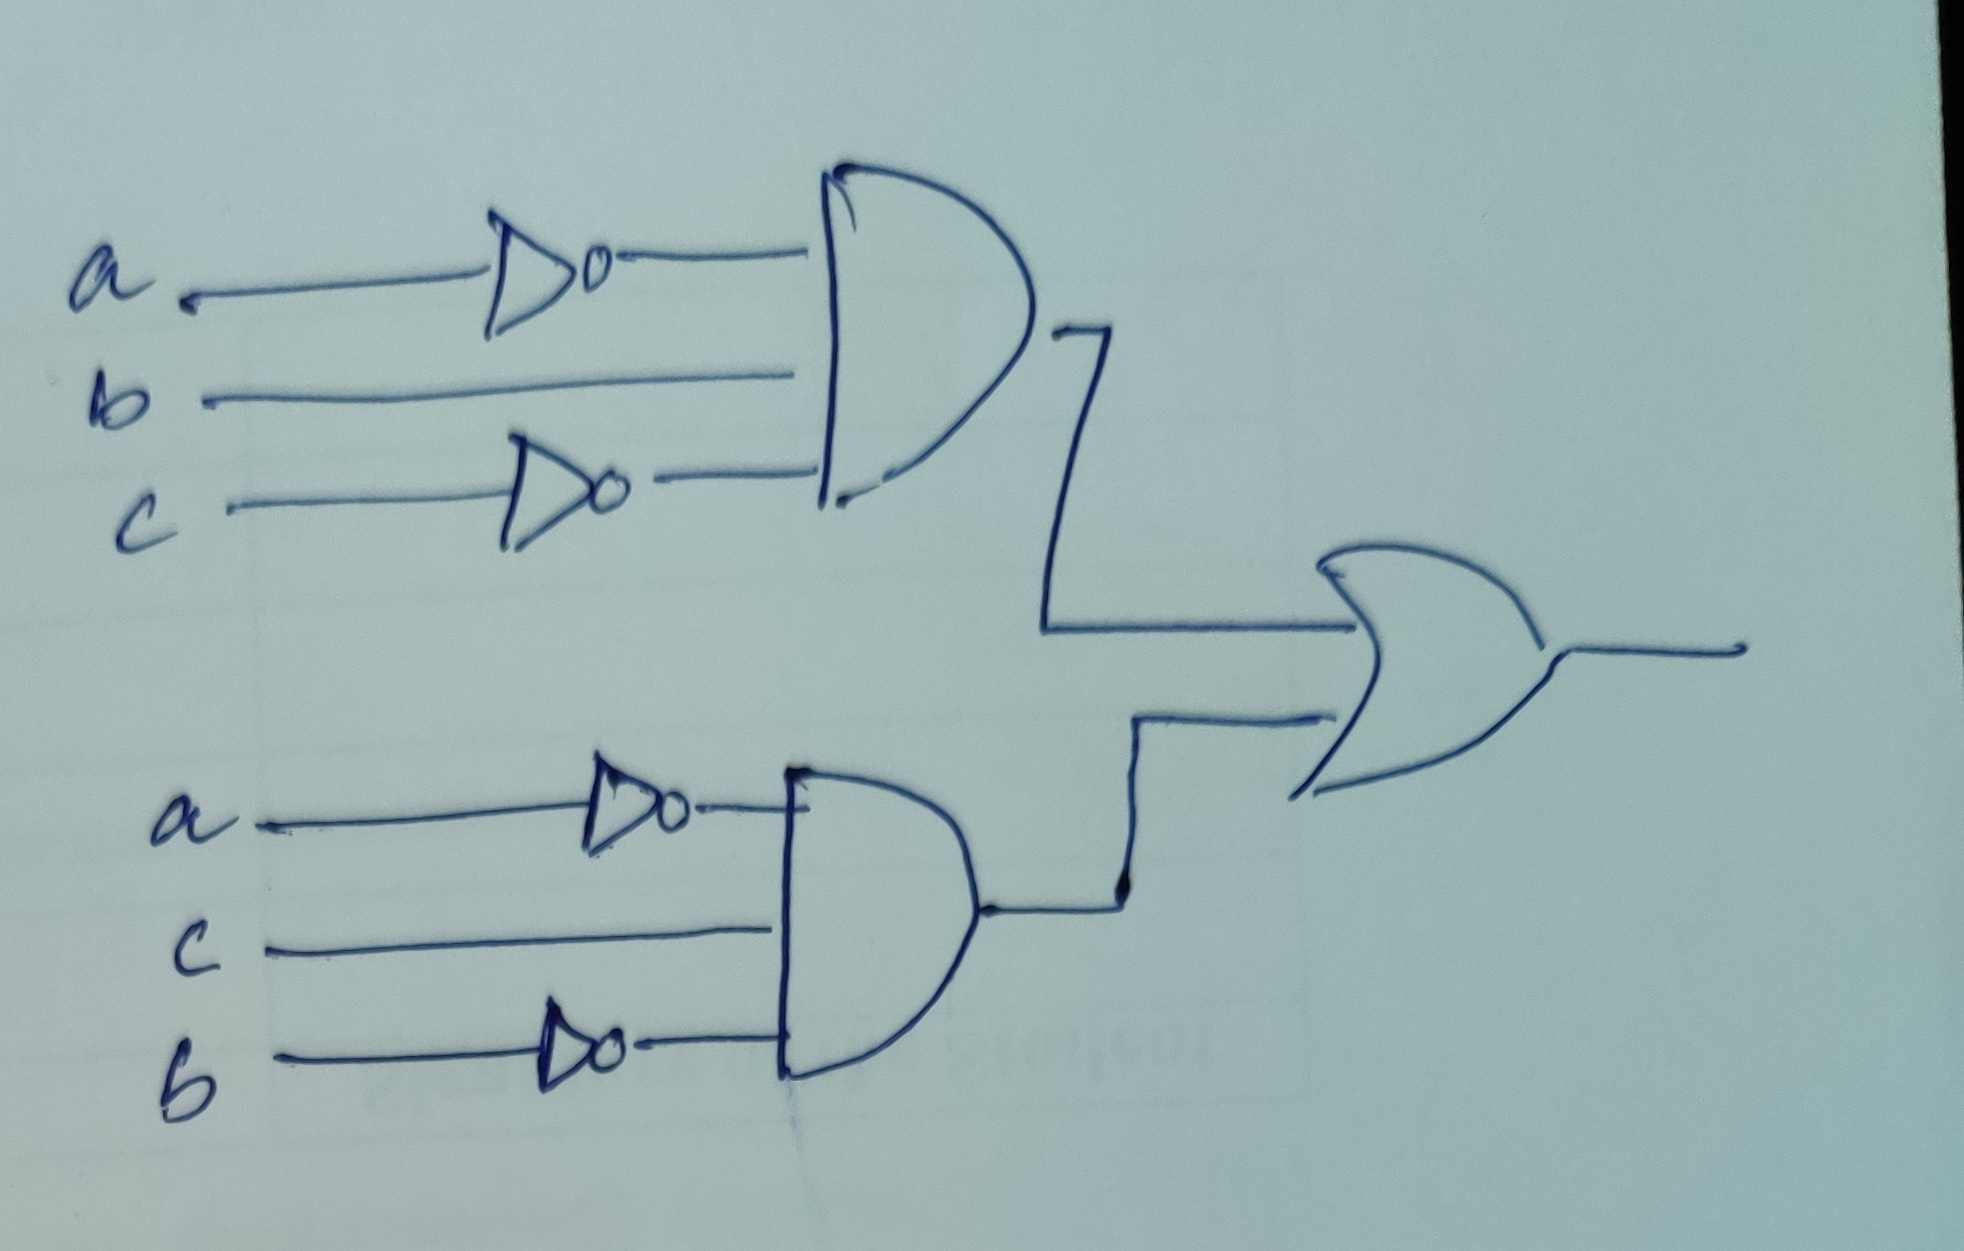and: (760, 142, 1054, 530), (759, 719, 1024, 1124)
not: (429, 180, 636, 346), (458, 417, 677, 570), (541, 711, 719, 880), (510, 963, 667, 1118)
or: (1210, 478, 1636, 849)
